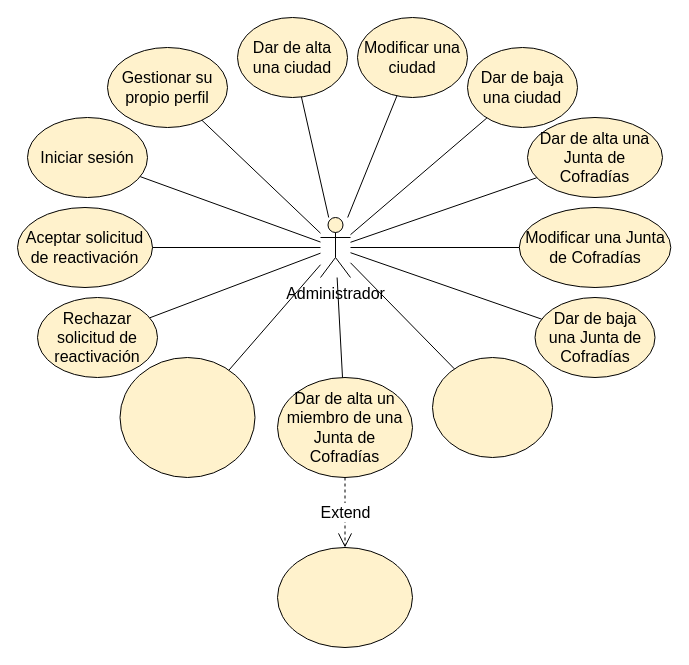
Some shapes in this 689 by 665 pixel diagram are drawn without their labels. Each missing label, with the centre of its shape:
"Dar de baja un miembro de una Junta de Cofradías" goes at [187,417].
"Modificar un miembro de una Junta de Cofradías" goes at [492,407].
"Reenviar invitación a un miembro" goes at [344,597].
